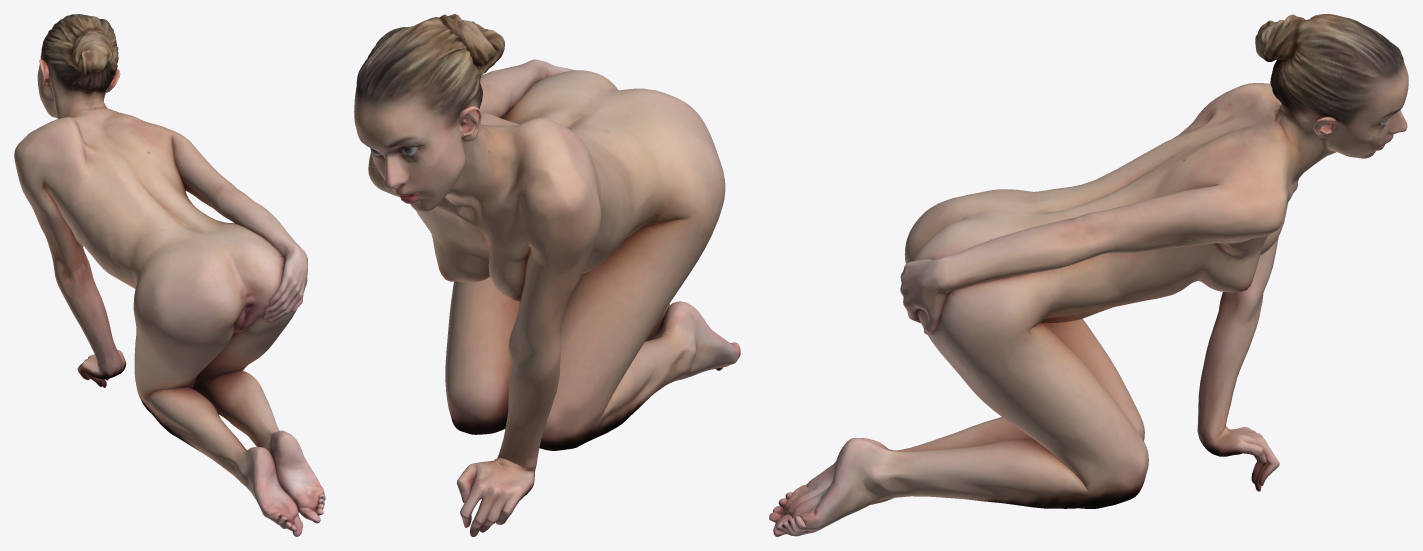
File: hot_girls_04.glb
3 renders of one model, left to right at view 1: azimuth 30°, elevation 25°; view 2: azimuth 150°, elevation 25°; view 3: azimuth 270°, elevation 25°, orthographic. The views are drawn at different scales.
Visible parts, largest first — view 1: Object_2; view 2: Object_2; view 3: Object_2.
Part boxes in pixels (x1,y1,x2,y2): Object_2: [14, 14, 325, 536]; Object_2: [354, 14, 740, 536]; Object_2: [769, 14, 1408, 536].
Bounding box in the file's own units: 0.4382 × 0.8931 × 1.01.
Materials: 1 (1 with a texture image).
